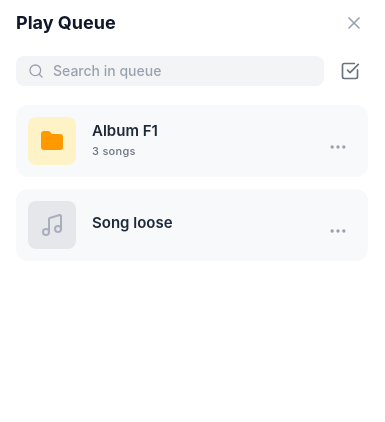
Test case: QueuePanel folder drill-down › click folder row → drill-down: 3 file con + nút back; click back → về root
Click the element showing "Album F1 3 songs".
click(192, 141)  # box [16,105,368,177]
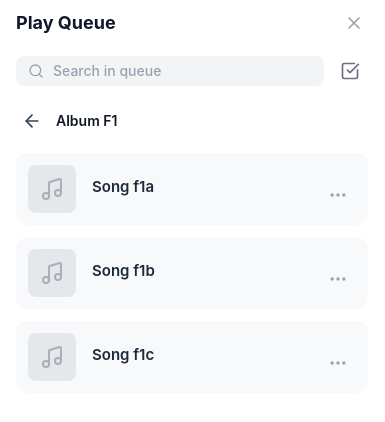
Now the cell with test id "queue-folder-row" is gone
Now the number of cells with test id "queue-row" is 3, box [16,153,368,237]; [16,237,368,321]; [16,321,368,405]
Now the heading "Song f1a" is shown, box [92,178,154,196]
Click the button named "Back".
click(32, 121)  # box [16,105,48,137]
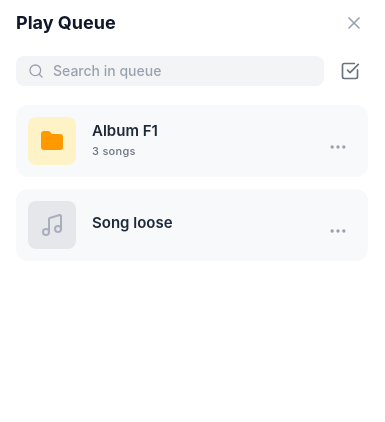
Now the number of cells with test id "queue-folder-row" is 1, box [16,105,368,189]
Now the number of cells with test id "queue-row" is 1, box [16,189,368,273]
Now the heading "Song loose" is shown, box [92,214,172,232]
